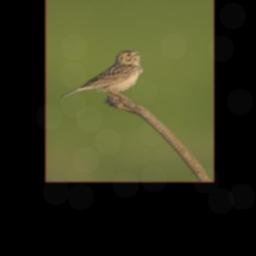Sparrow: (60, 49, 142, 102)
